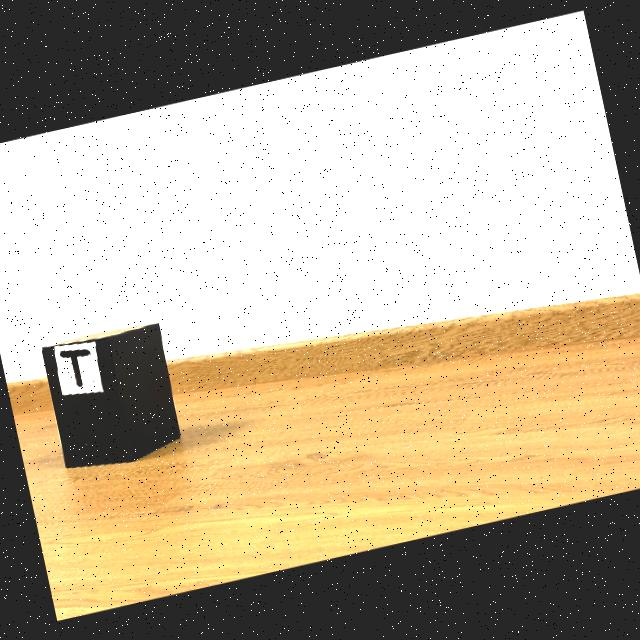T: (60, 349, 89, 387)
